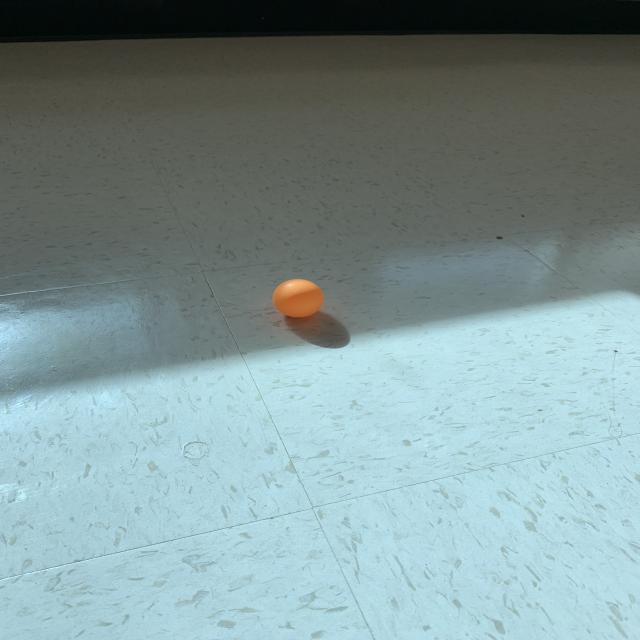ping-pong-ball: (268, 272, 329, 326)
